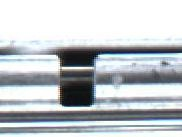oneu: (52, 48, 102, 111)
